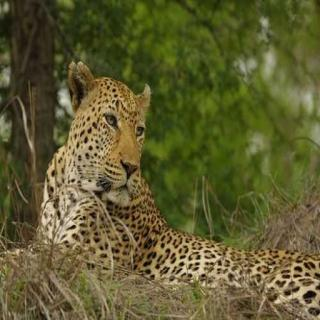Leopard: (73, 69, 320, 320)
